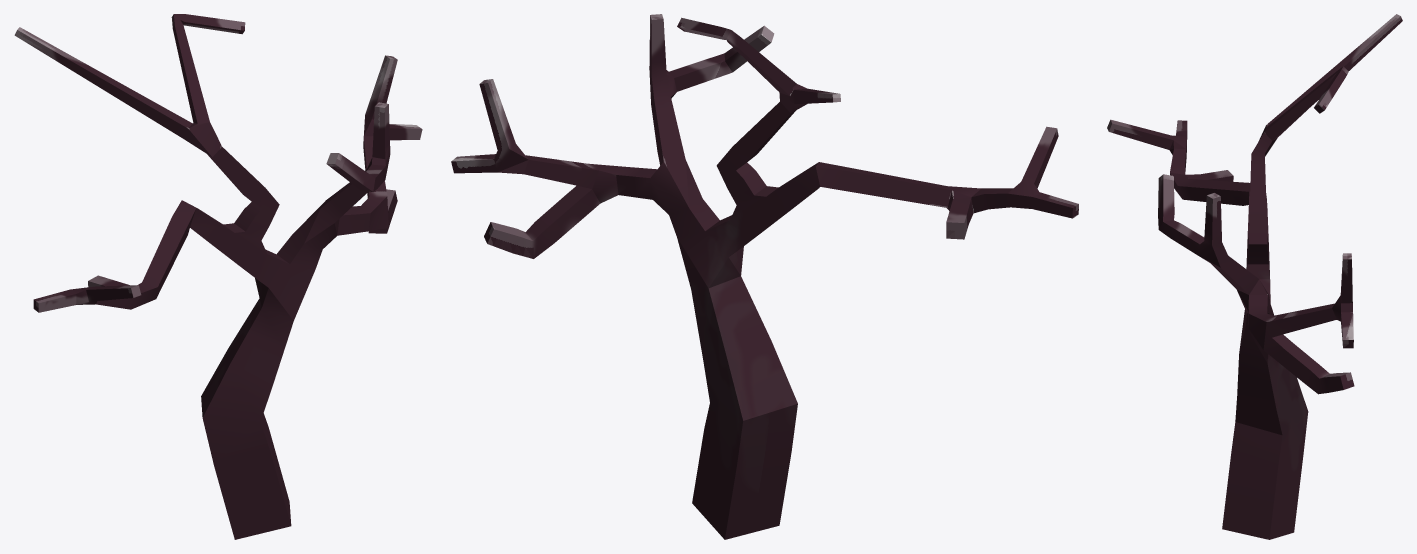
The model's file is deadTree01.dae.
3 views of the same model, side by side, from view 1: azimuth 30°, elevation 25°; view 2: azimuth 150°, elevation 25°; view 3: azimuth 270°, elevation 25° (orthographic). The views are drawn at different scales.
Parts seen in each view (by area): view 1: tree01; view 2: tree01; view 3: tree01.
Boxes of the visible parts, box(x1,y1,x2,y2) form: tree01: box(14, 14, 422, 539); tree01: box(451, 14, 1078, 539); tree01: box(1107, 14, 1402, 539).
Size of what is drawn, in the model's own units: 2.62 by 1.54 by 2.59.
Materials: 1 (1 with a texture image).
